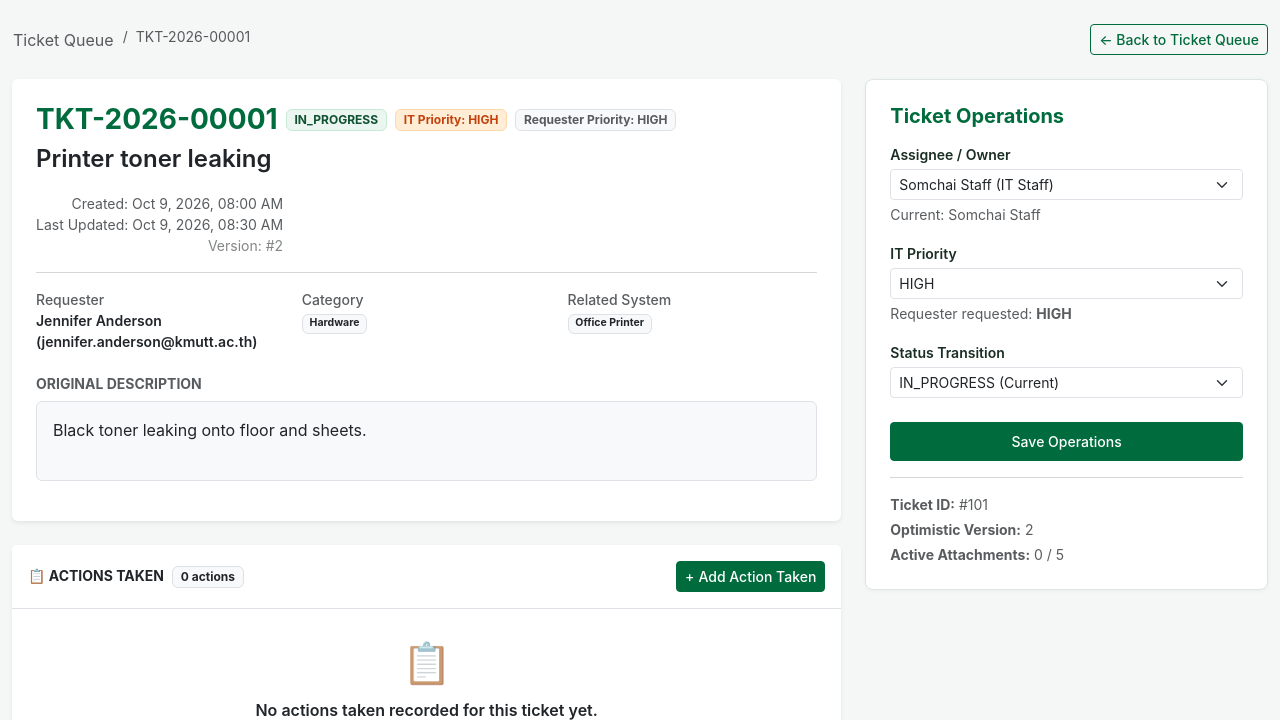
Feature-15: Ticket Workflow & Resolution Gate UI Tests › UI-15: Ticket Detail Resolution Gate Blocked Alert Modal (FR-43, AC-07) › catches 409 TICKET_STATE_CONFLICT and renders ResolutionGateBlockedModal with review and dismiss buttons
The image size is (1280, 720).
# Select RESOLVED
Select "→ Transition to RESOLVED" in the dropdown with test id "status-transition-select" at (1067, 382), box top-left (890, 367), bottom-right (1243, 398)
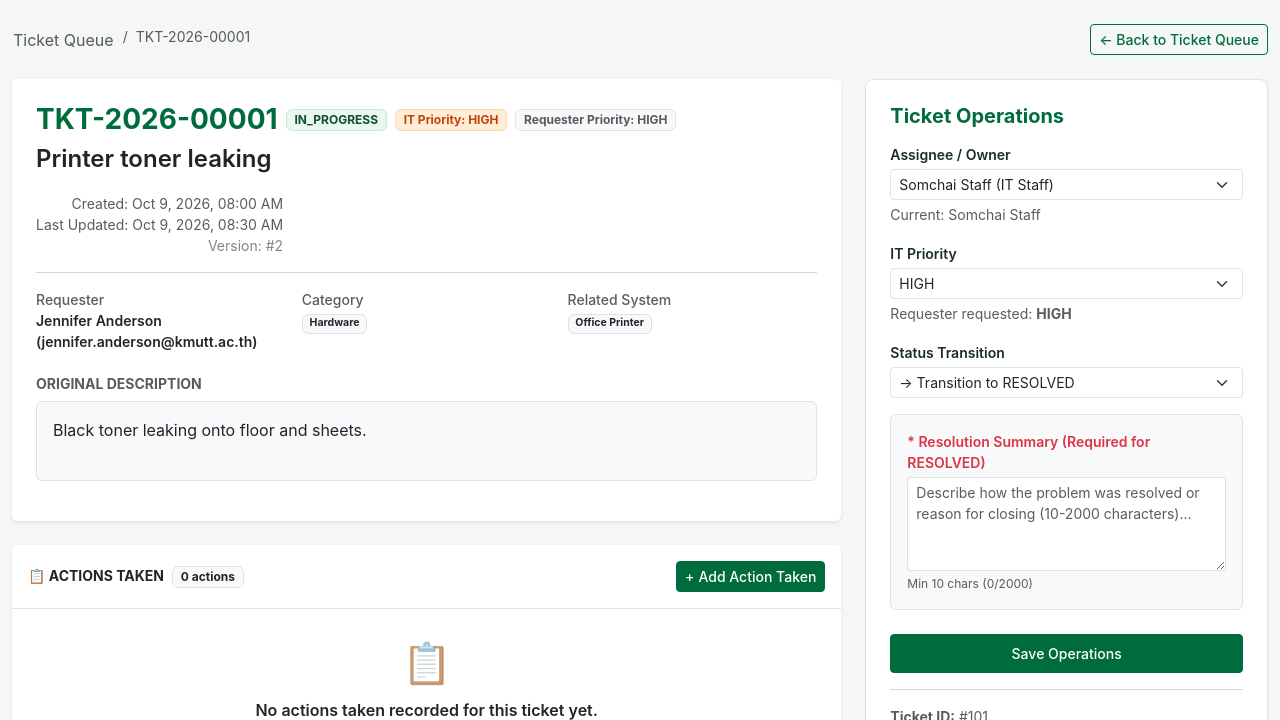
# Enter valid resolution summary
Replace the text in the text box with test id "resolution-summary-input" with "Replaced toner unit and cleaned paper path completely." at (1067, 524), box top-left (907, 477), bottom-right (1226, 571)
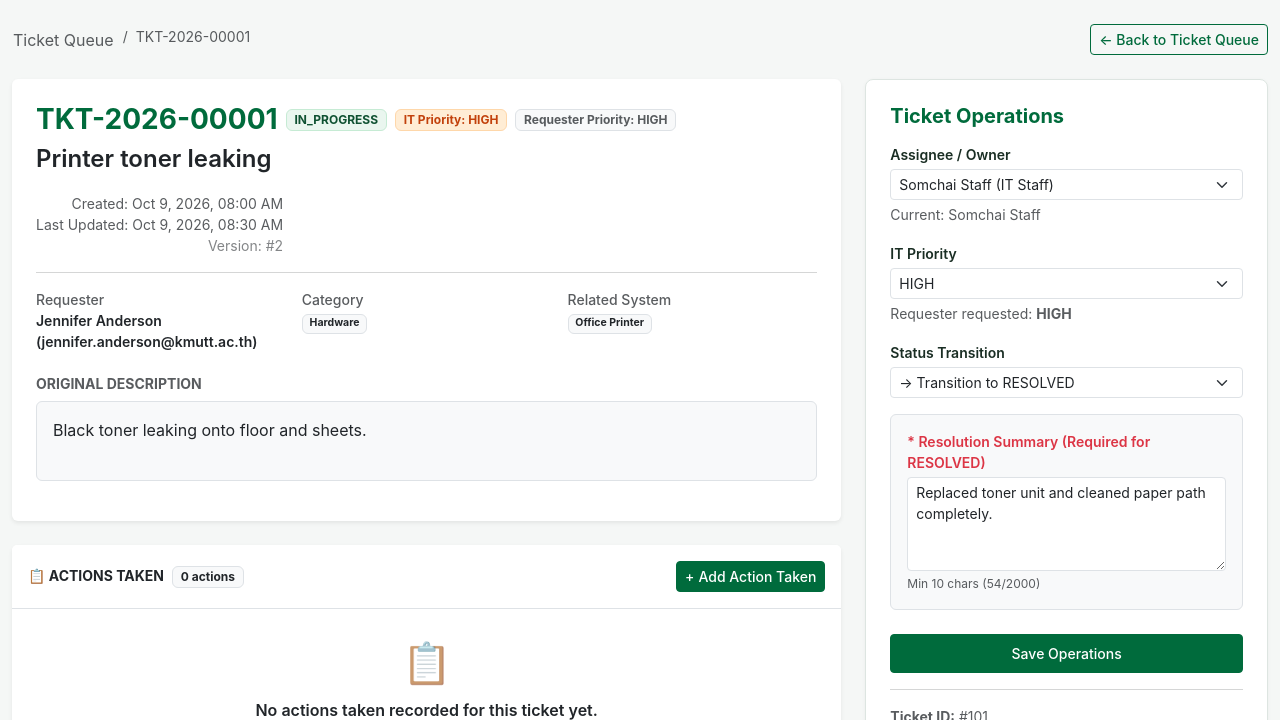
# Click save operations
Click the button with test id "save-operations-button" at (1067, 654), box top-left (890, 634), bottom-right (1243, 673)
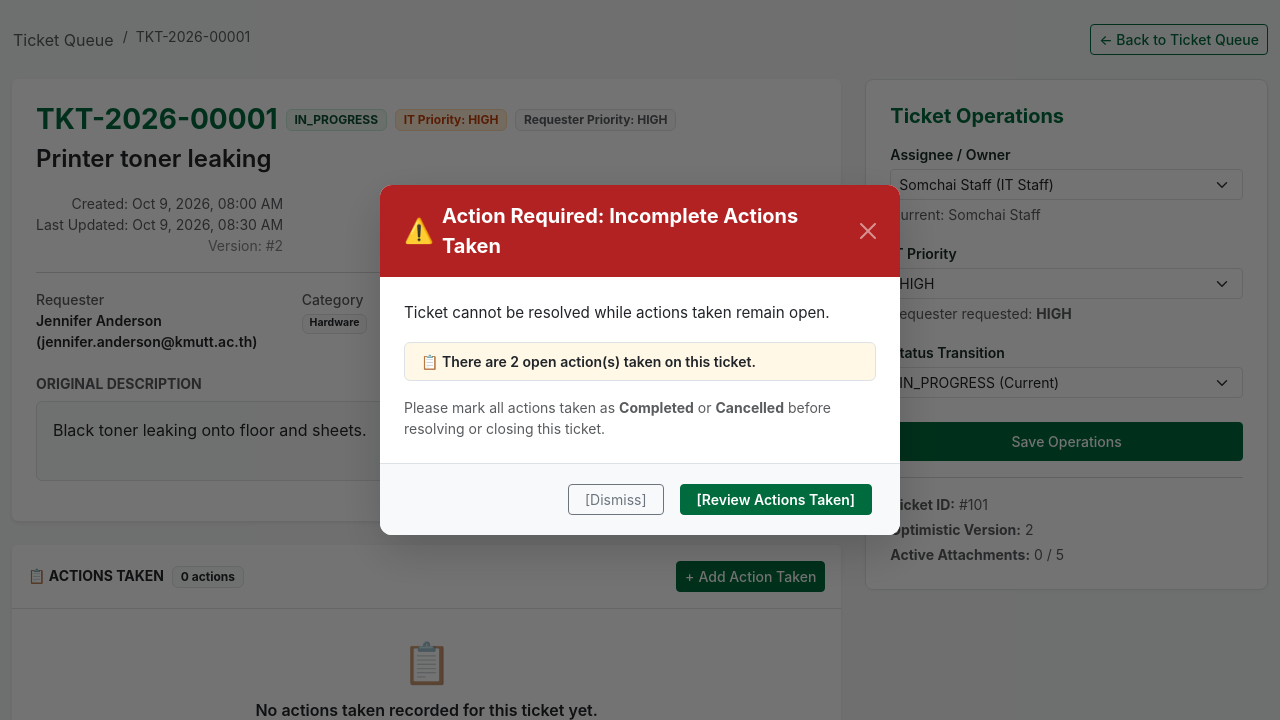
Expected: the dialog with test id "resolution-gate-modal" is shown
Expected: the heading "Action Required: Incomplete Actions Taken" is shown, top-left (442, 201), bottom-right (852, 261)
Expected: the text with test id "resolution-gate-action-count" shows "There are 2 open action(s) taken on this ticket.", top-left (442, 353), bottom-right (756, 370)
# Test Dismiss button closes modal
Click the button with test id "resolution-gate-dismiss-btn" at (616, 499), box top-left (568, 484), bottom-right (664, 515)
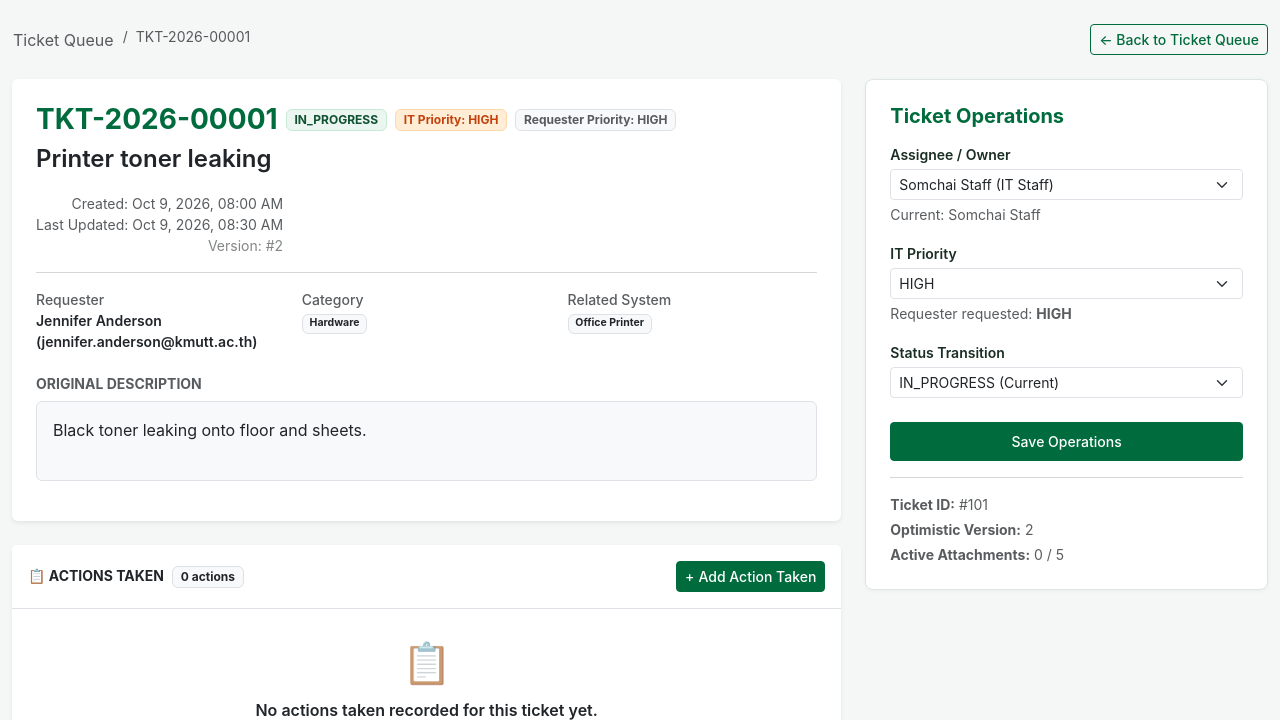
Expected: the dialog with test id "resolution-gate-modal" is gone
